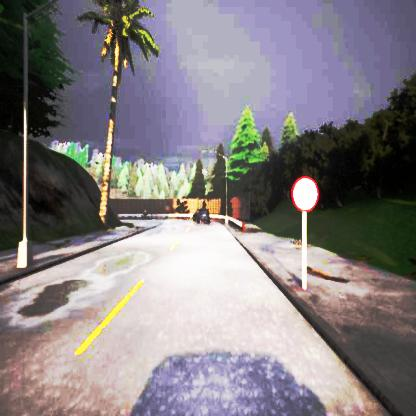vehicle: (192, 209, 210, 224)
